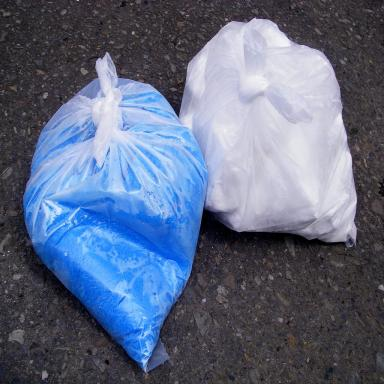plasticbag: (22, 49, 206, 371), (177, 16, 356, 249)
